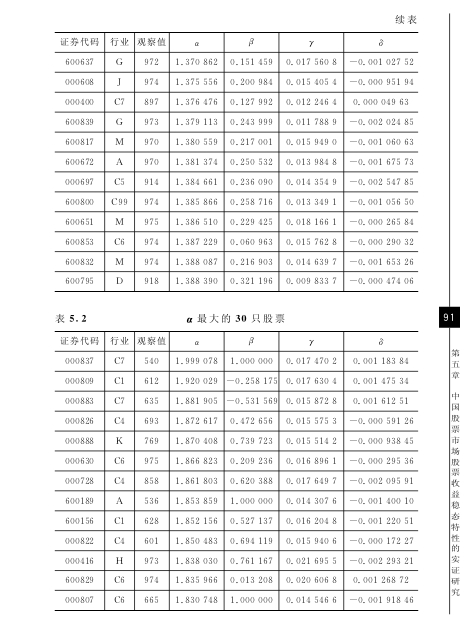table: (54, 331, 418, 611), (54, 32, 418, 292)
